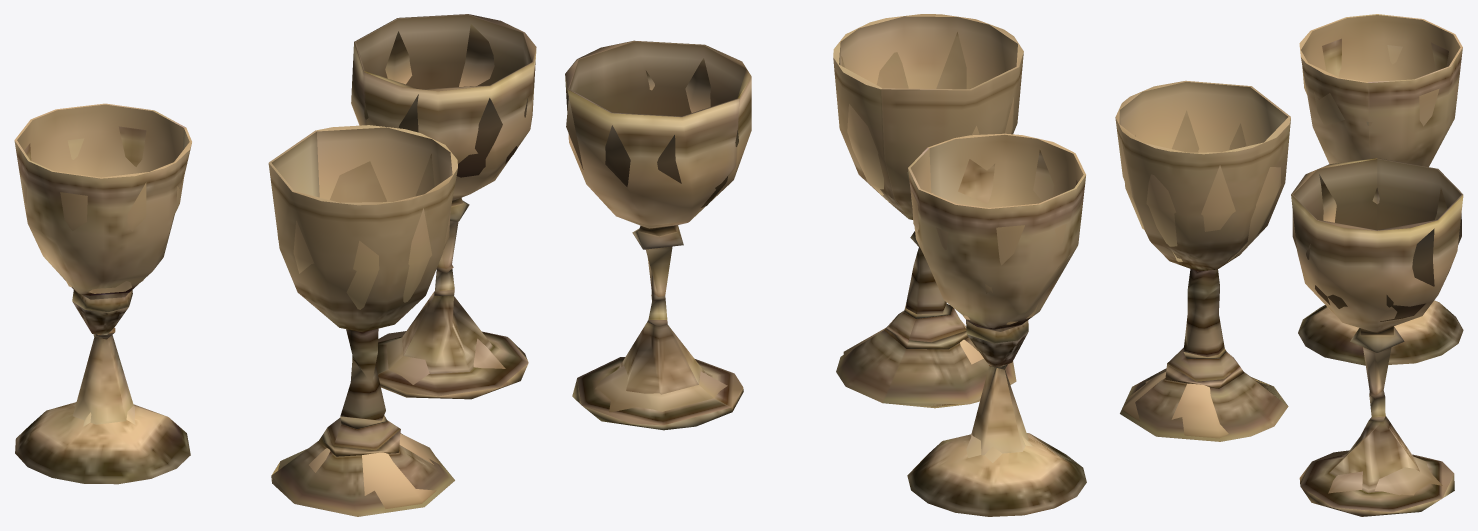
File: design-brass-goblets.glb
The picture shows the model from 3 angles, left to right: view 1: azimuth 30°, elevation 25°; view 2: azimuth 150°, elevation 25°; view 3: azimuth 270°, elevation 25°; orthographic projection. The views are drawn at different scales.
Parts seen in each view (by area): view 1: brass_goblet_01, brass_goblet_02, brass_goblet_03; view 2: brass_goblet_02, brass_goblet_03, brass_goblet_01; view 3: brass_goblet_01, brass_goblet_03, brass_goblet_02.
Boxes of the visible parts, bbox=[...] form: brass_goblet_01: bbox=[268, 125, 457, 516]; brass_goblet_02: bbox=[14, 103, 191, 484]; brass_goblet_03: bbox=[351, 14, 536, 399]; brass_goblet_02: bbox=[907, 133, 1086, 516]; brass_goblet_03: bbox=[565, 40, 751, 430]; brass_goblet_01: bbox=[833, 14, 1023, 408]; brass_goblet_01: bbox=[1115, 80, 1290, 441]; brass_goblet_03: bbox=[1291, 158, 1463, 516]; brass_goblet_02: bbox=[1298, 14, 1463, 365].
Bounding box in the file's own units: 0.4527 × 0.2734 × 0.2965.
3 materials, 3 textured.
